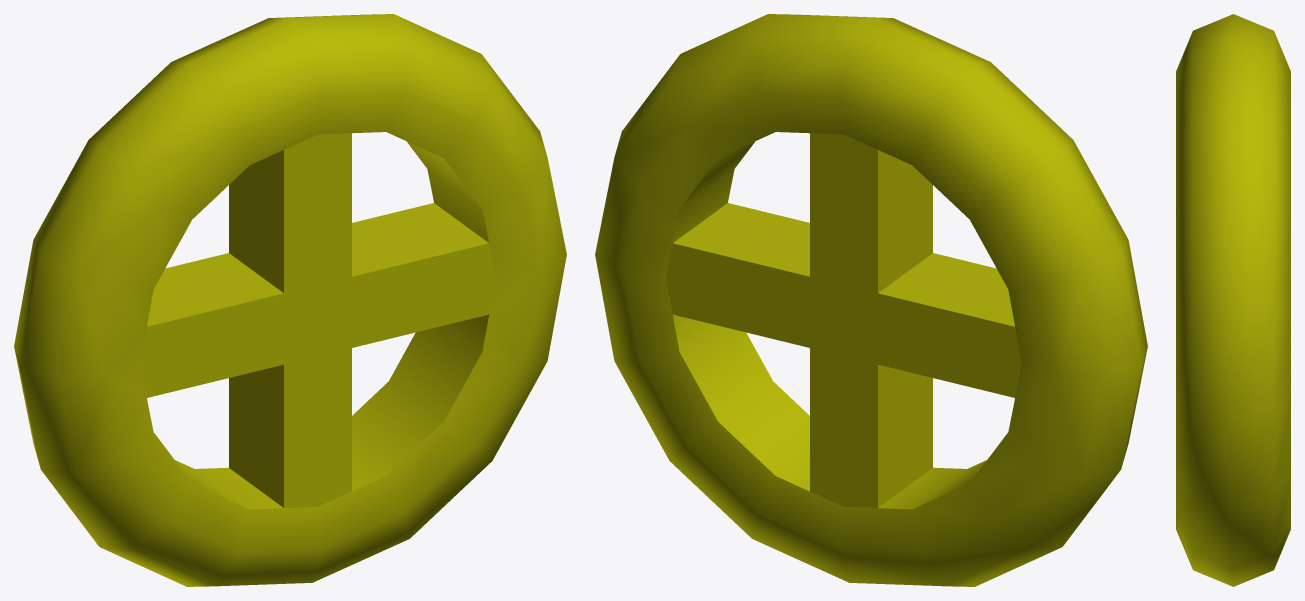
The model's file is wheel.sapphire.obj.
3 renders of one model, left to right at view 1: azimuth 30°, elevation 25°; view 2: azimuth 150°, elevation 25°; view 3: azimuth 270°, elevation 25°, orthographic. The views are drawn at different scales.
Parts seen in each view (by area): view 1: Wheel_Torus; view 2: Wheel_Torus; view 3: Wheel_Torus.
Part boxes in pixels (x1=…): Wheel_Torus: x1=14, y1=14, x2=566, y2=586; Wheel_Torus: x1=595, y1=14, x2=1147, y2=586; Wheel_Torus: x1=1176, y1=14, x2=1290, y2=586.
Size of the model in its own units: 1 by 1 by 0.2.
